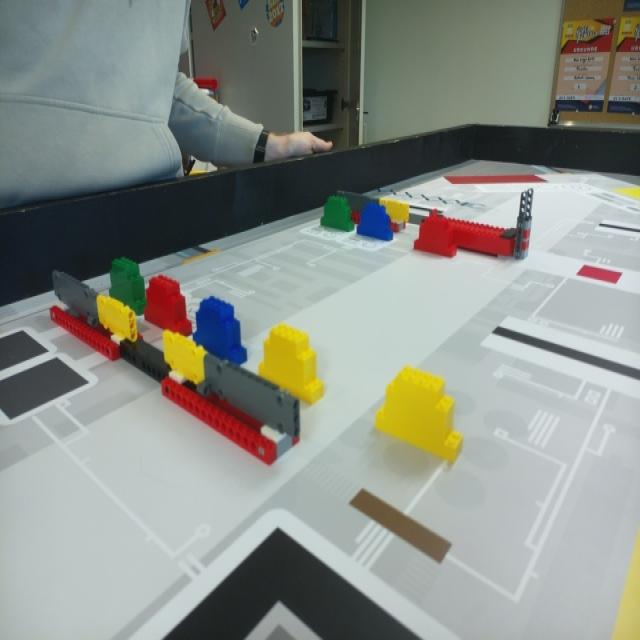blau: (193, 296, 247, 366), (360, 206, 394, 238)
gruen: (108, 257, 146, 316), (320, 194, 354, 233)
rot: (145, 274, 191, 334), (414, 213, 457, 258)
yellow: (374, 363, 463, 461), (260, 321, 326, 402)
